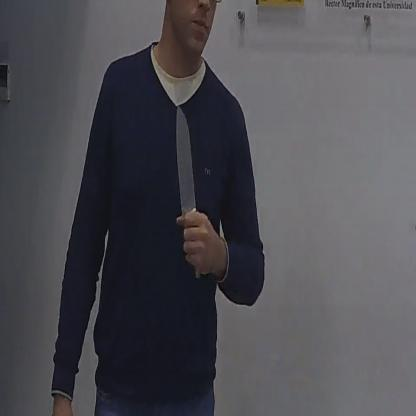knife: (168, 98, 216, 282)
